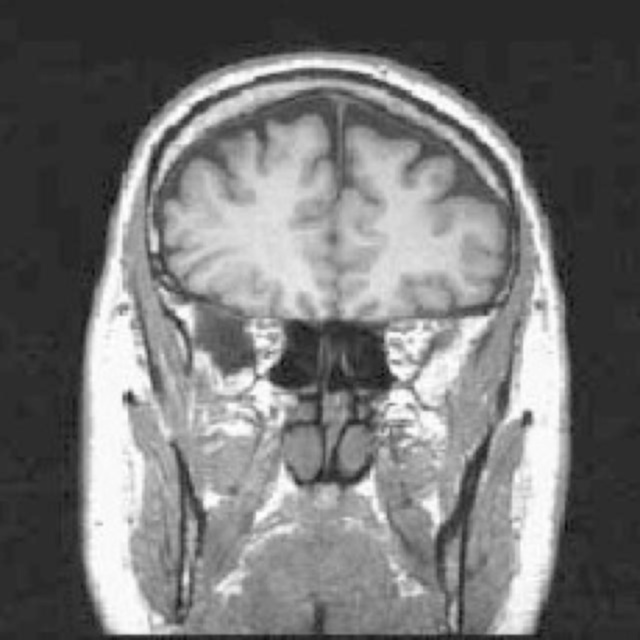glioma tumor: (175, 126, 501, 352)
